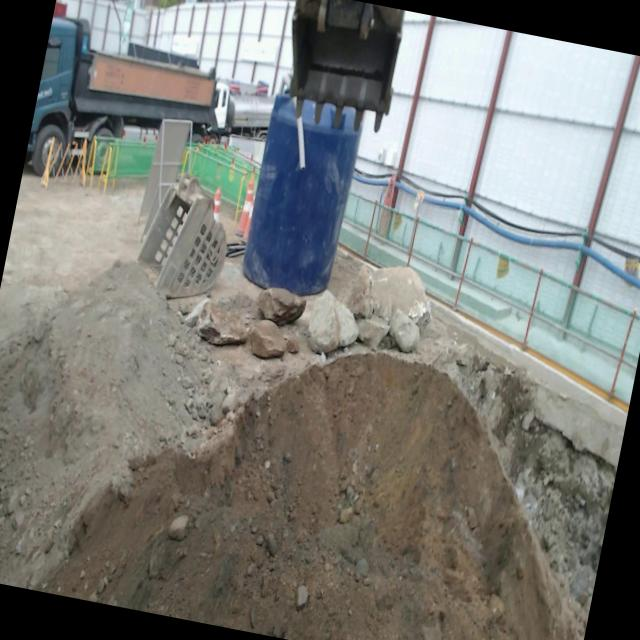white-sand: (0, 170, 608, 640)
